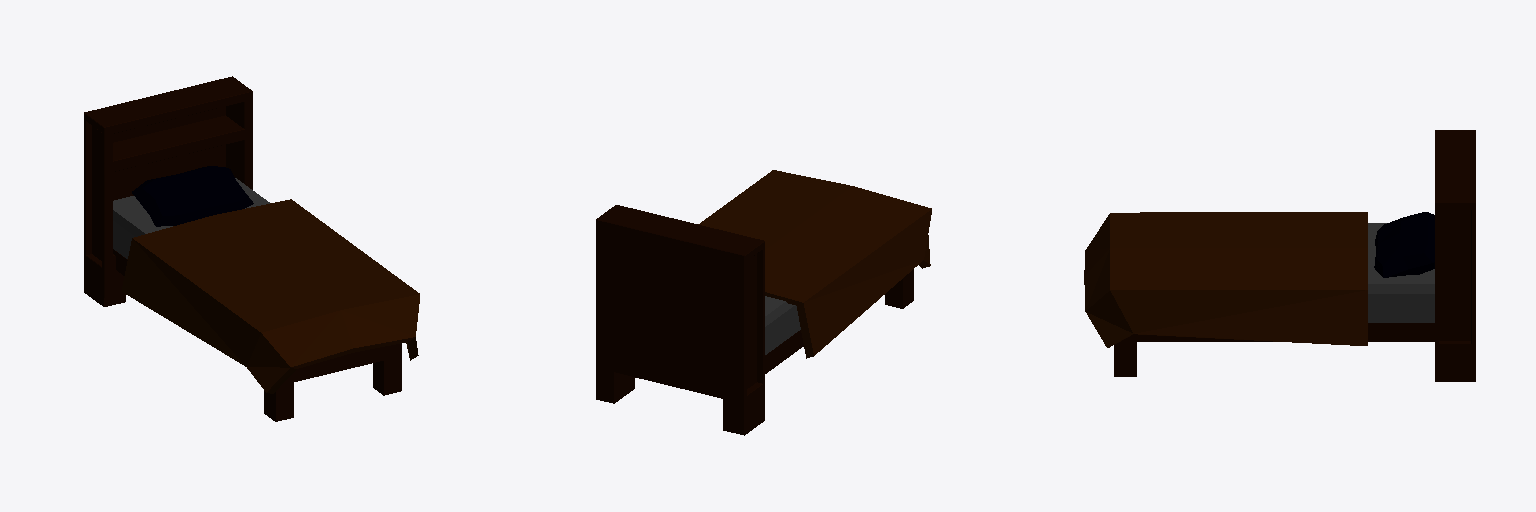
File: SingleBed1.obj
The picture shows the model from 3 angles: view 1: azimuth 30°, elevation 25°; view 2: azimuth 150°, elevation 25°; view 3: azimuth 270°, elevation 25°; orthographic projection.
Parts seen in each view (by area): view 1: Blanket1_SingleBed1_Cube.001, SingleBed1_Cube.008, Pillow1_SingleBed1_Cube.002; view 2: SingleBed1_Cube.008, Blanket1_SingleBed1_Cube.001; view 3: Blanket1_SingleBed1_Cube.001, SingleBed1_Cube.008, Pillow1_SingleBed1_Cube.002.
Boxes of the visible parts, <box> form: Blanket1_SingleBed1_Cube.001: <box>121,199,419,393</box>; SingleBed1_Cube.008: <box>84,76,401,421</box>; Pillow1_SingleBed1_Cube.002: <box>132,166,253,226</box>; SingleBed1_Cube.008: <box>596,205,913,435</box>; Blanket1_SingleBed1_Cube.001: <box>698,170,931,358</box>; Blanket1_SingleBed1_Cube.001: <box>1084,212,1367,347</box>; SingleBed1_Cube.008: <box>1114,130,1475,381</box>; Pillow1_SingleBed1_Cube.002: <box>1374,212,1434,277</box>.
Size of the model in its own units: 1.44 by 1.38 by 2.71.